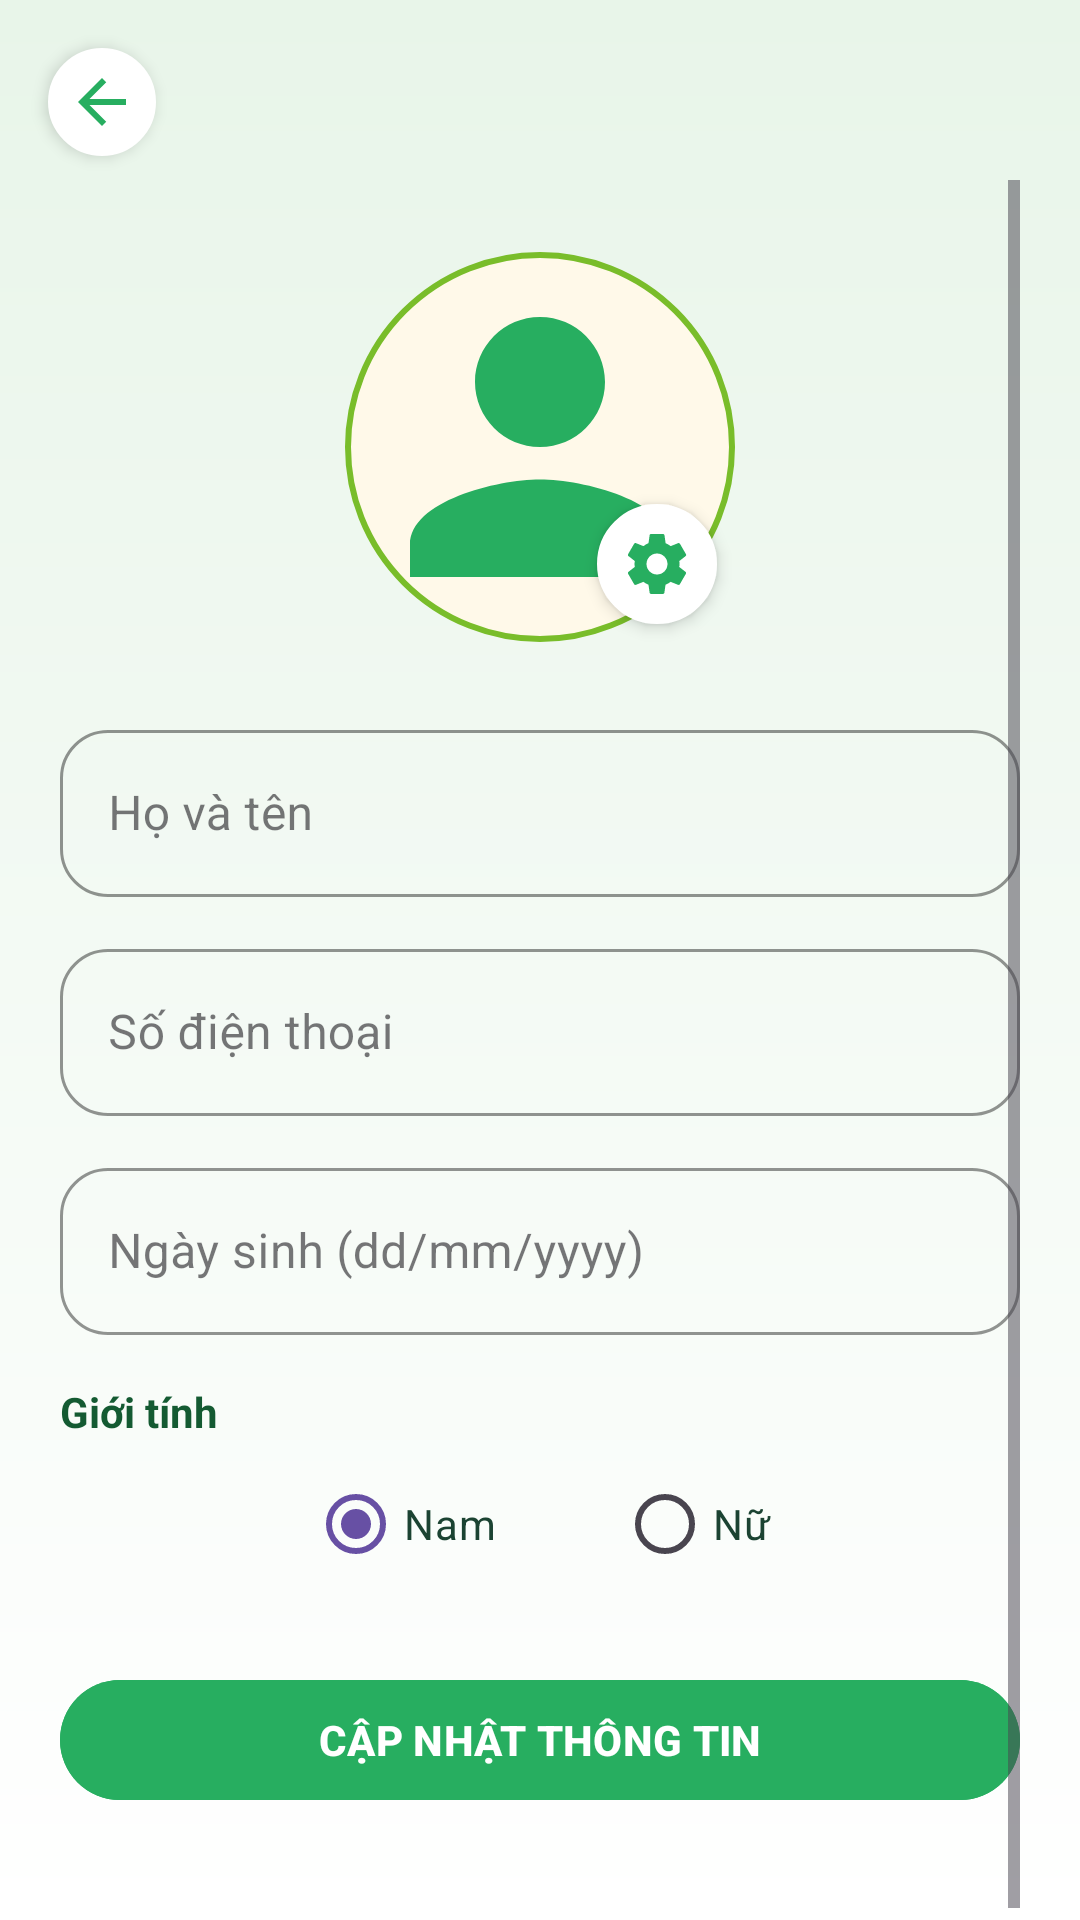

Screen size 1080px x 1920px. Icon name, then its box in pixels as [x1, y1, x2, y2]:
Quay lại: [48, 48, 156, 156]
